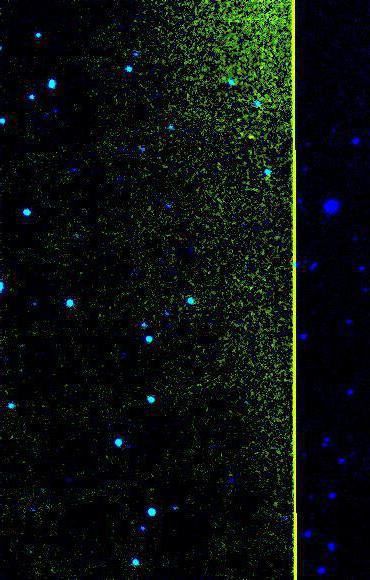star: (236, 122, 266, 152)
